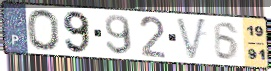2: (139, 15, 167, 60)
6: (211, 21, 241, 62)
9: (61, 10, 93, 55), (103, 13, 134, 56)
O: (25, 8, 62, 53)
V: (175, 16, 209, 63)
